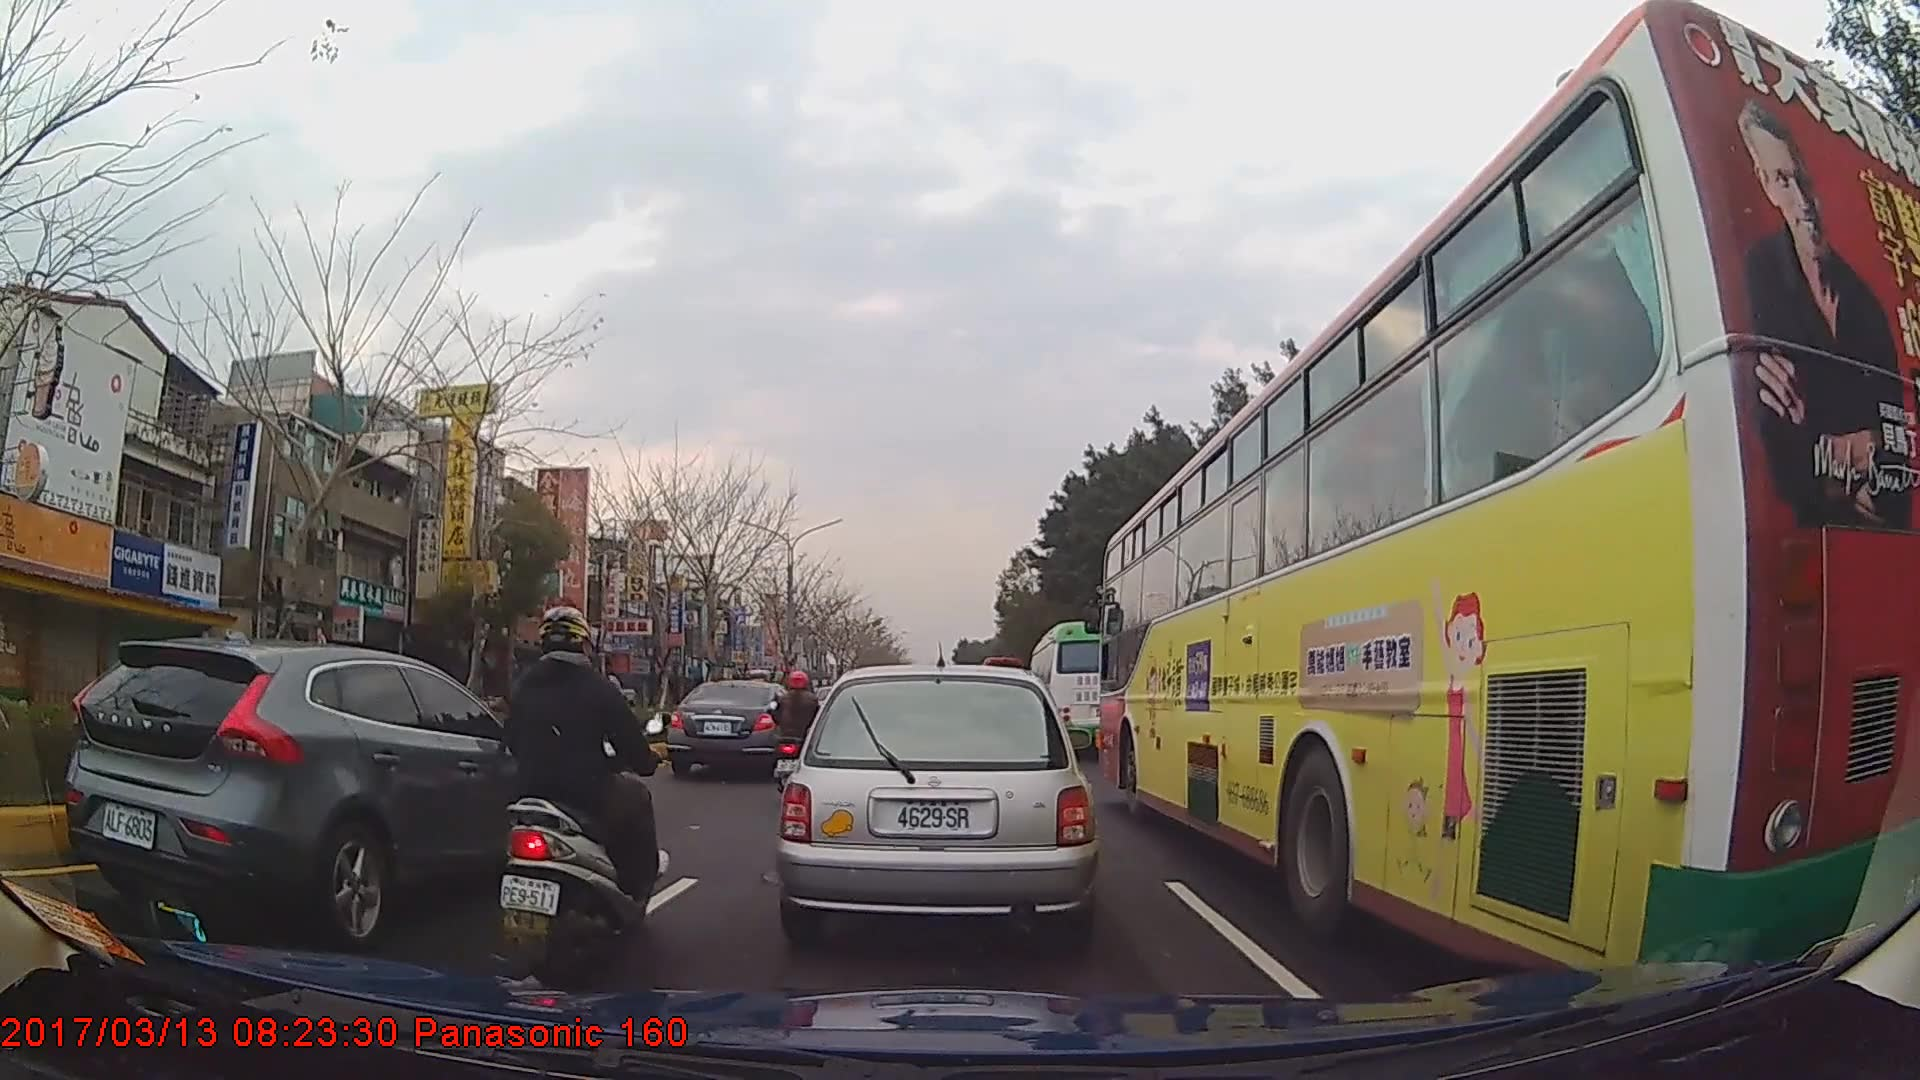rider: (499, 604, 663, 979), (770, 669, 828, 789)
vehicle: (1096, 0, 1920, 994), (65, 635, 572, 942), (779, 658, 1101, 943), (1027, 617, 1138, 757), (667, 676, 803, 779)
